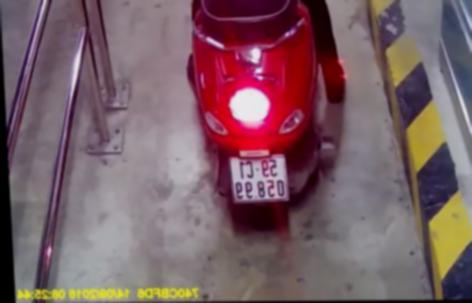License_Plate: (222, 149, 295, 208)
